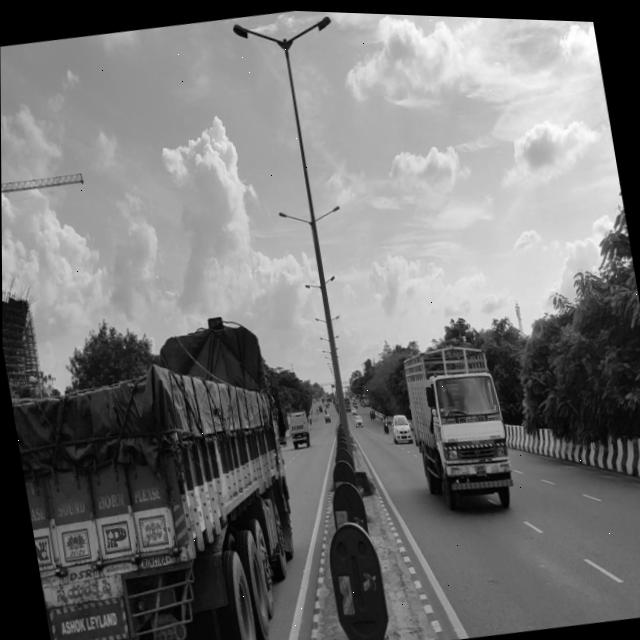truck: (2, 301, 317, 640), (401, 333, 522, 519)
